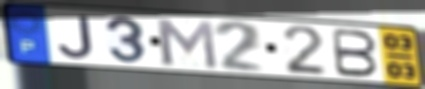2: (212, 20, 269, 74), (280, 24, 331, 78)
3: (101, 15, 151, 66)
B: (331, 27, 381, 79)
J: (57, 14, 98, 61)
M: (152, 16, 221, 71)
